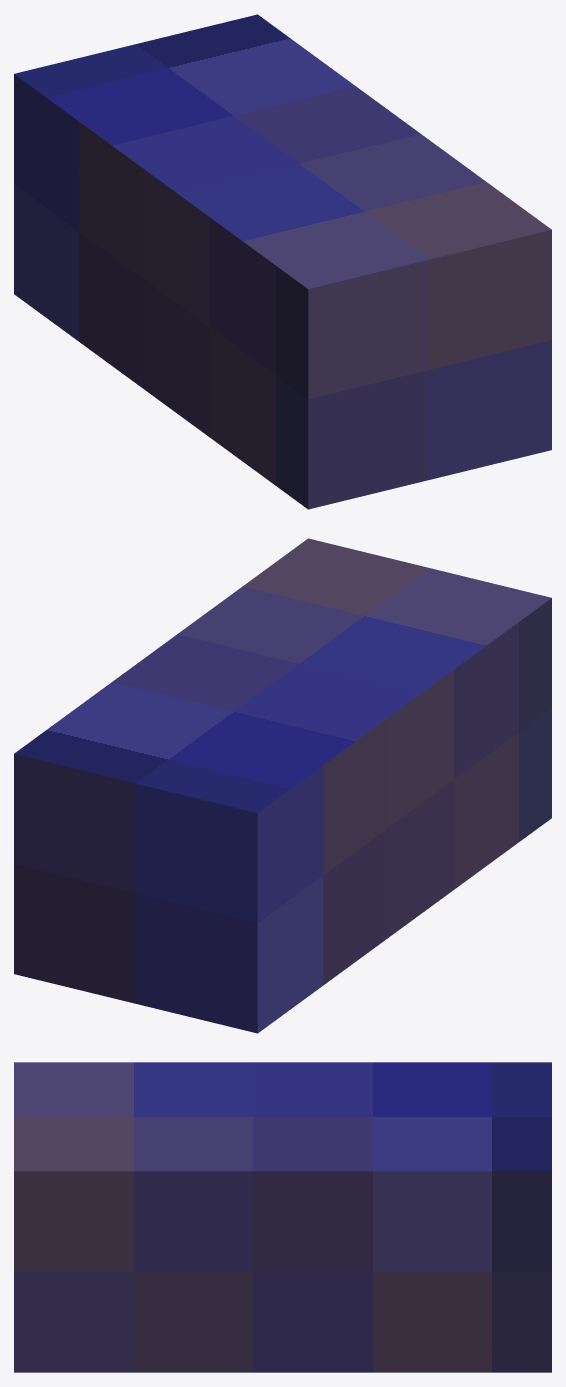
Rendered from molniya_debris_battery_2.glb.
3 views of the same model, one above another, from view 1: azimuth 30°, elevation 25°; view 2: azimuth 150°, elevation 25°; view 3: azimuth 270°, elevation 25° (orthographic). The views are drawn at different scales.
Parts seen in each view (by area): view 1: airframe; view 2: airframe; view 3: airframe.
Part boxes in pixels (x1=…): airframe: x1=14, y1=14, x2=551, y2=509; airframe: x1=14, y1=538, x2=551, y2=1033; airframe: x1=14, y1=1062, x2=551, y2=1372.
Size of the model in its own units: 0.1375 by 0.1187 by 0.2875.
1 material, 1 textured.
